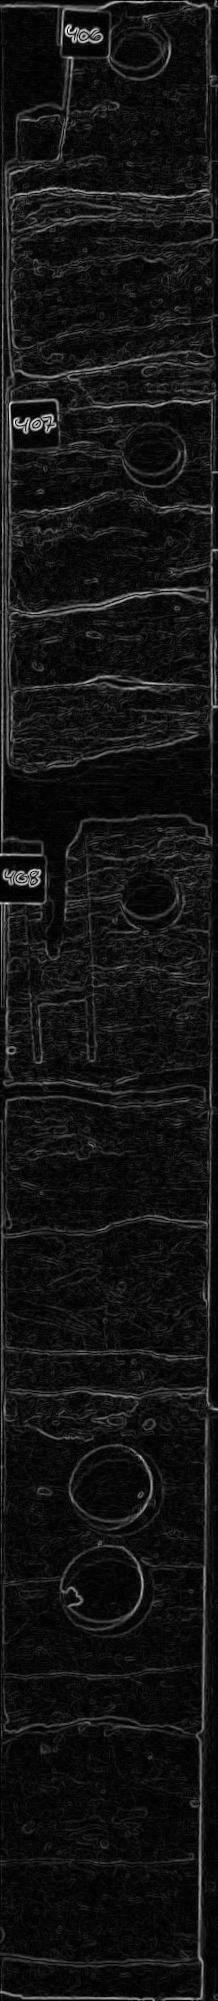hplug: (110, 861, 187, 938), (99, 13, 177, 83), (113, 421, 191, 489)
scal: (59, 1432, 161, 1538), (54, 1538, 157, 1639)
vplug: (18, 842, 99, 1066), (8, 5, 76, 172)
